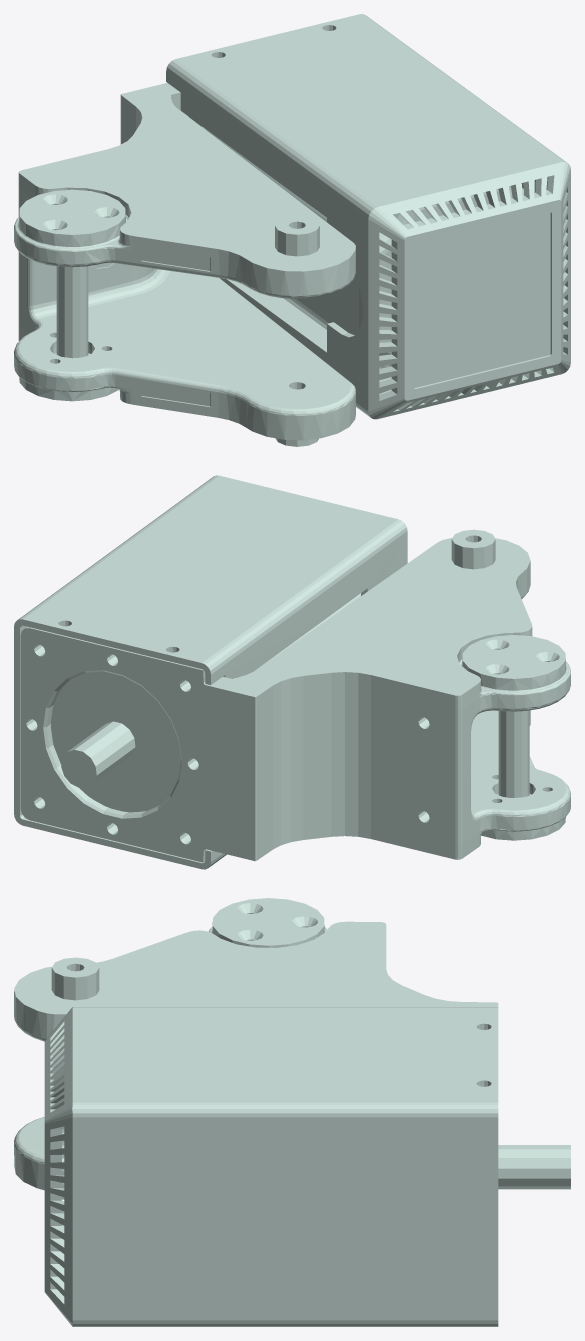
3 renders of one model, top to bottom at view 1: azimuth 30°, elevation 25°; view 2: azimuth 150°, elevation 25°; view 3: azimuth 270°, elevation 25°, orthographic. The views are drawn at different scales.
Parts seen in each view (by area): view 1: add_Link; view 2: add_Link; view 3: add_Link.
Part boxes in pixels (x1,y1,x2,y2): add_Link: (14,14,570,446); add_Link: (14,475,570,869); add_Link: (14,898,570,1326).
Size of the model in its own units: 0.099 by 0.0995 by 0.044.
